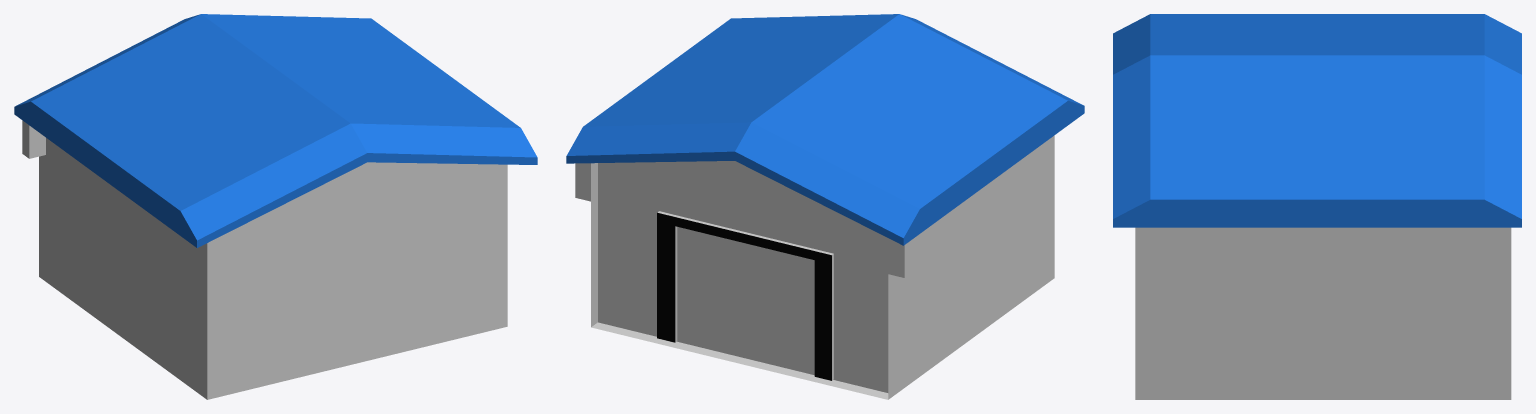
File: BlueHall.fbx
The picture shows the model from 3 angles, left to right: view 1: azimuth 30°, elevation 25°; view 2: azimuth 150°, elevation 25°; view 3: azimuth 270°, elevation 25°; orthographic projection. The views are drawn at different scales.
Visible parts, largest first — view 1: Cube; view 2: Cube; view 3: Cube.
Boxes of the visible parts, <box> form: Cube: <box>14,14,537,399</box>; Cube: <box>566,14,1084,399</box>; Cube: <box>1113,14,1521,399</box>.
Size of the model in its own units: 763 by 503 by 710.
